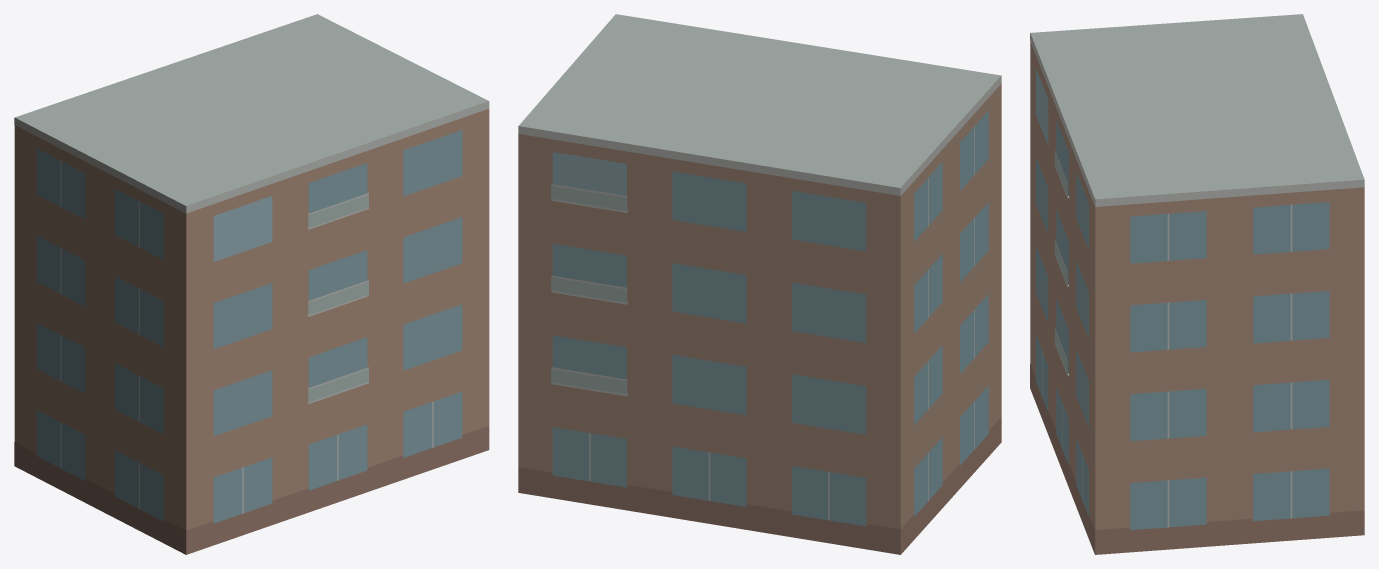
The model's file is survey-upis-32737543.glb.
3 renders of one model, left to right at view 1: azimuth 30°, elevation 25°; view 2: azimuth 150°, elevation 25°; view 3: azimuth 270°, elevation 25°, orthographic. The views are drawn at different scales.
Parts seen in each view (by area): view 1: survey-upis-32737543.tmp; view 2: survey-upis-32737543.tmp; view 3: survey-upis-32737543.tmp.
Part boxes in pixels (x1,y1,x2,y2): survey-upis-32737543.tmp: (14, 14, 489, 554); survey-upis-32737543.tmp: (518, 14, 1001, 554); survey-upis-32737543.tmp: (1030, 14, 1364, 554).
Bounding box in the file's own units: 12.76 × 11.4 × 9.73.
